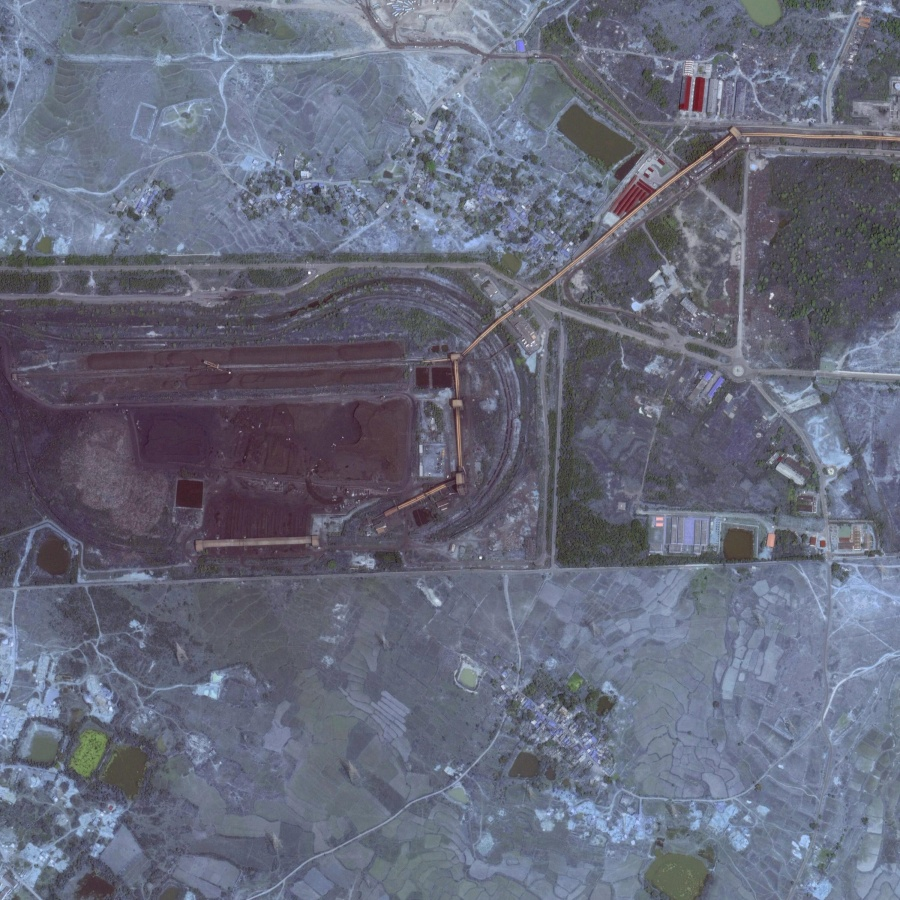PowerPlant: (11, 318, 522, 574)
